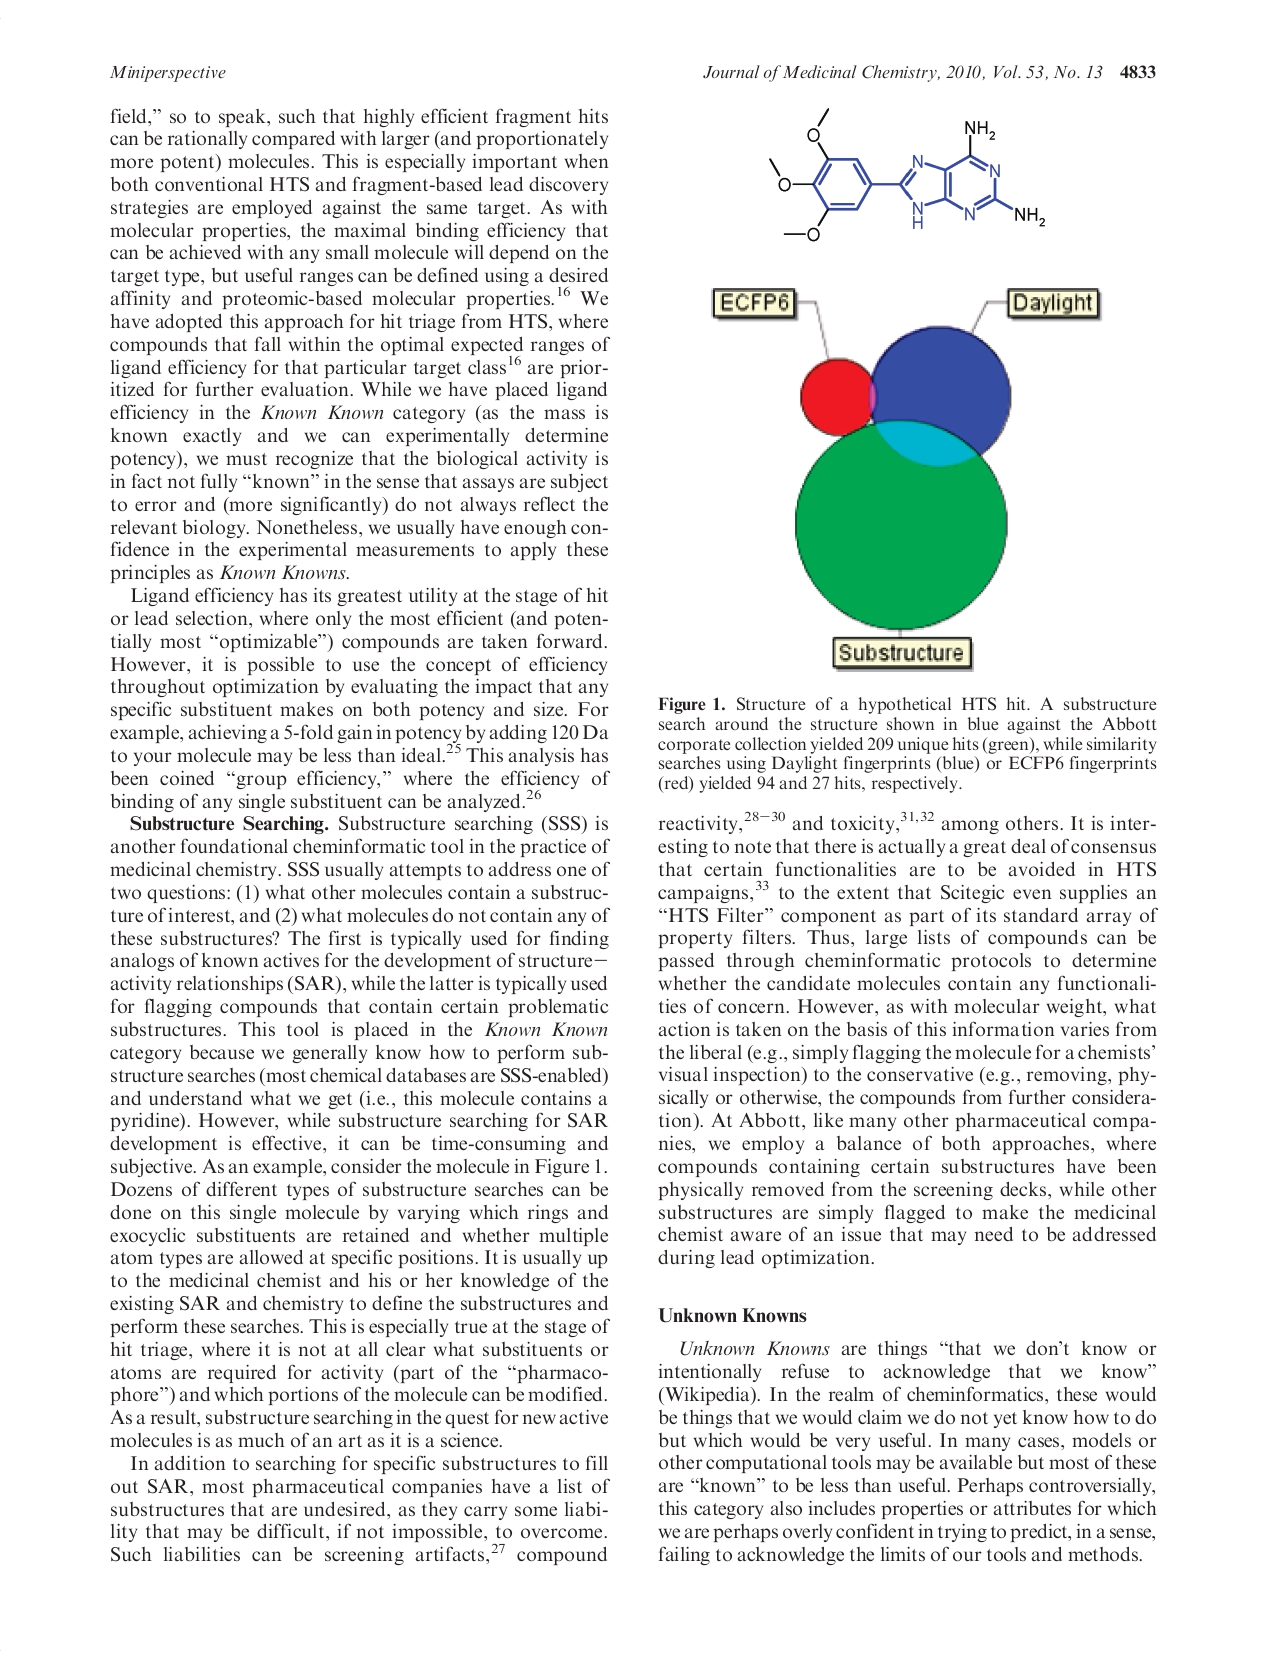exist_molecular: (758, 105, 1056, 245)
